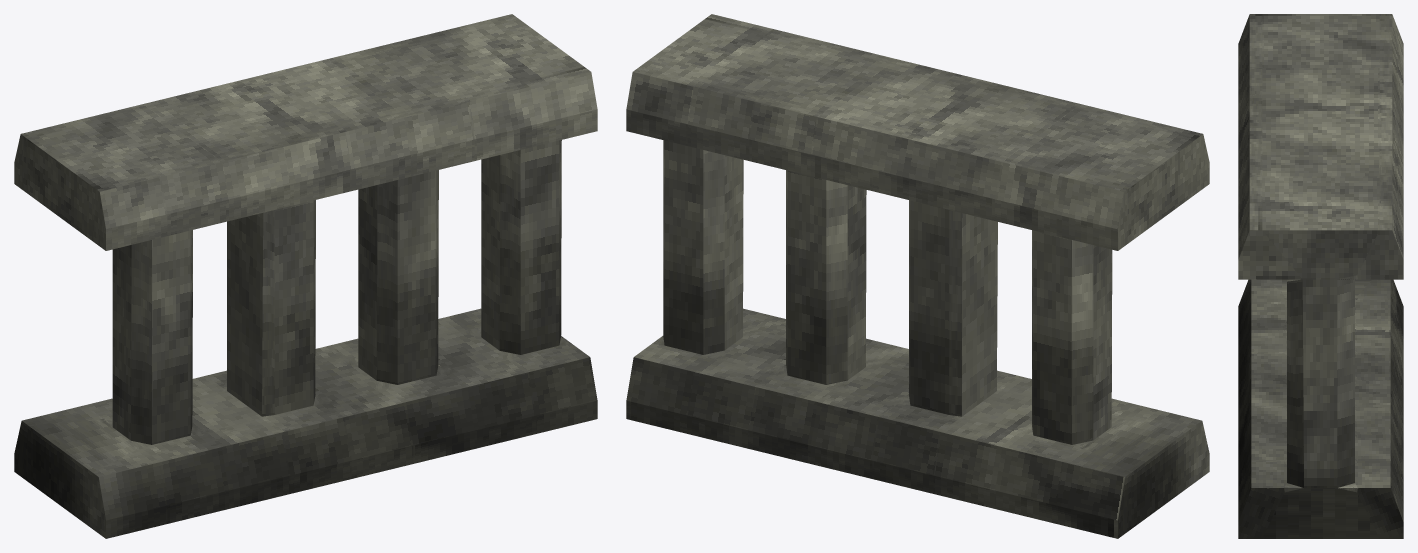
The model's file is church_fence.glb.
The picture shows the model from 3 angles, left to right: view 1: azimuth 30°, elevation 25°; view 2: azimuth 150°, elevation 25°; view 3: azimuth 270°, elevation 25°; orthographic projection. The views are drawn at different scales.
Visible parts, largest first — view 1: church_fence; view 2: church_fence; view 3: church_fence.
Boxes of the visible parts, box(x1,y1,x2,y2) form: church_fence: box(14, 14, 597, 538); church_fence: box(626, 14, 1209, 538); church_fence: box(1238, 14, 1403, 538).
Bounding box in the file's own units: 1.51 × 1.01 × 0.4883.
1 material, 1 textured.
